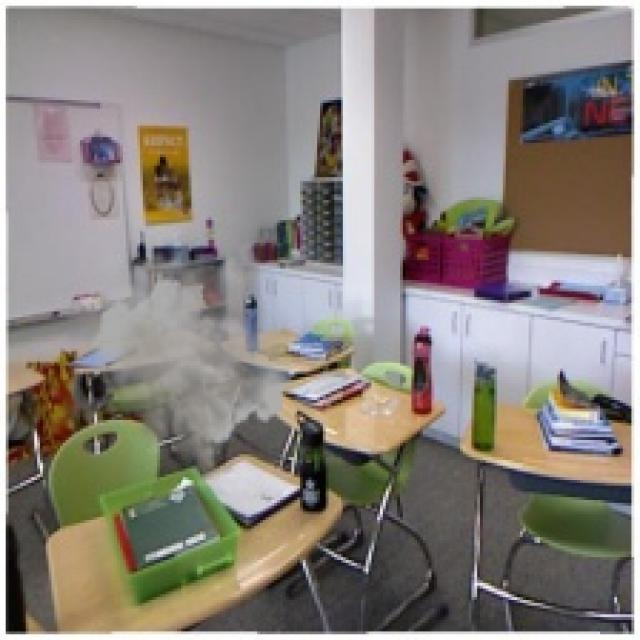smoke: (57, 246, 297, 491)
